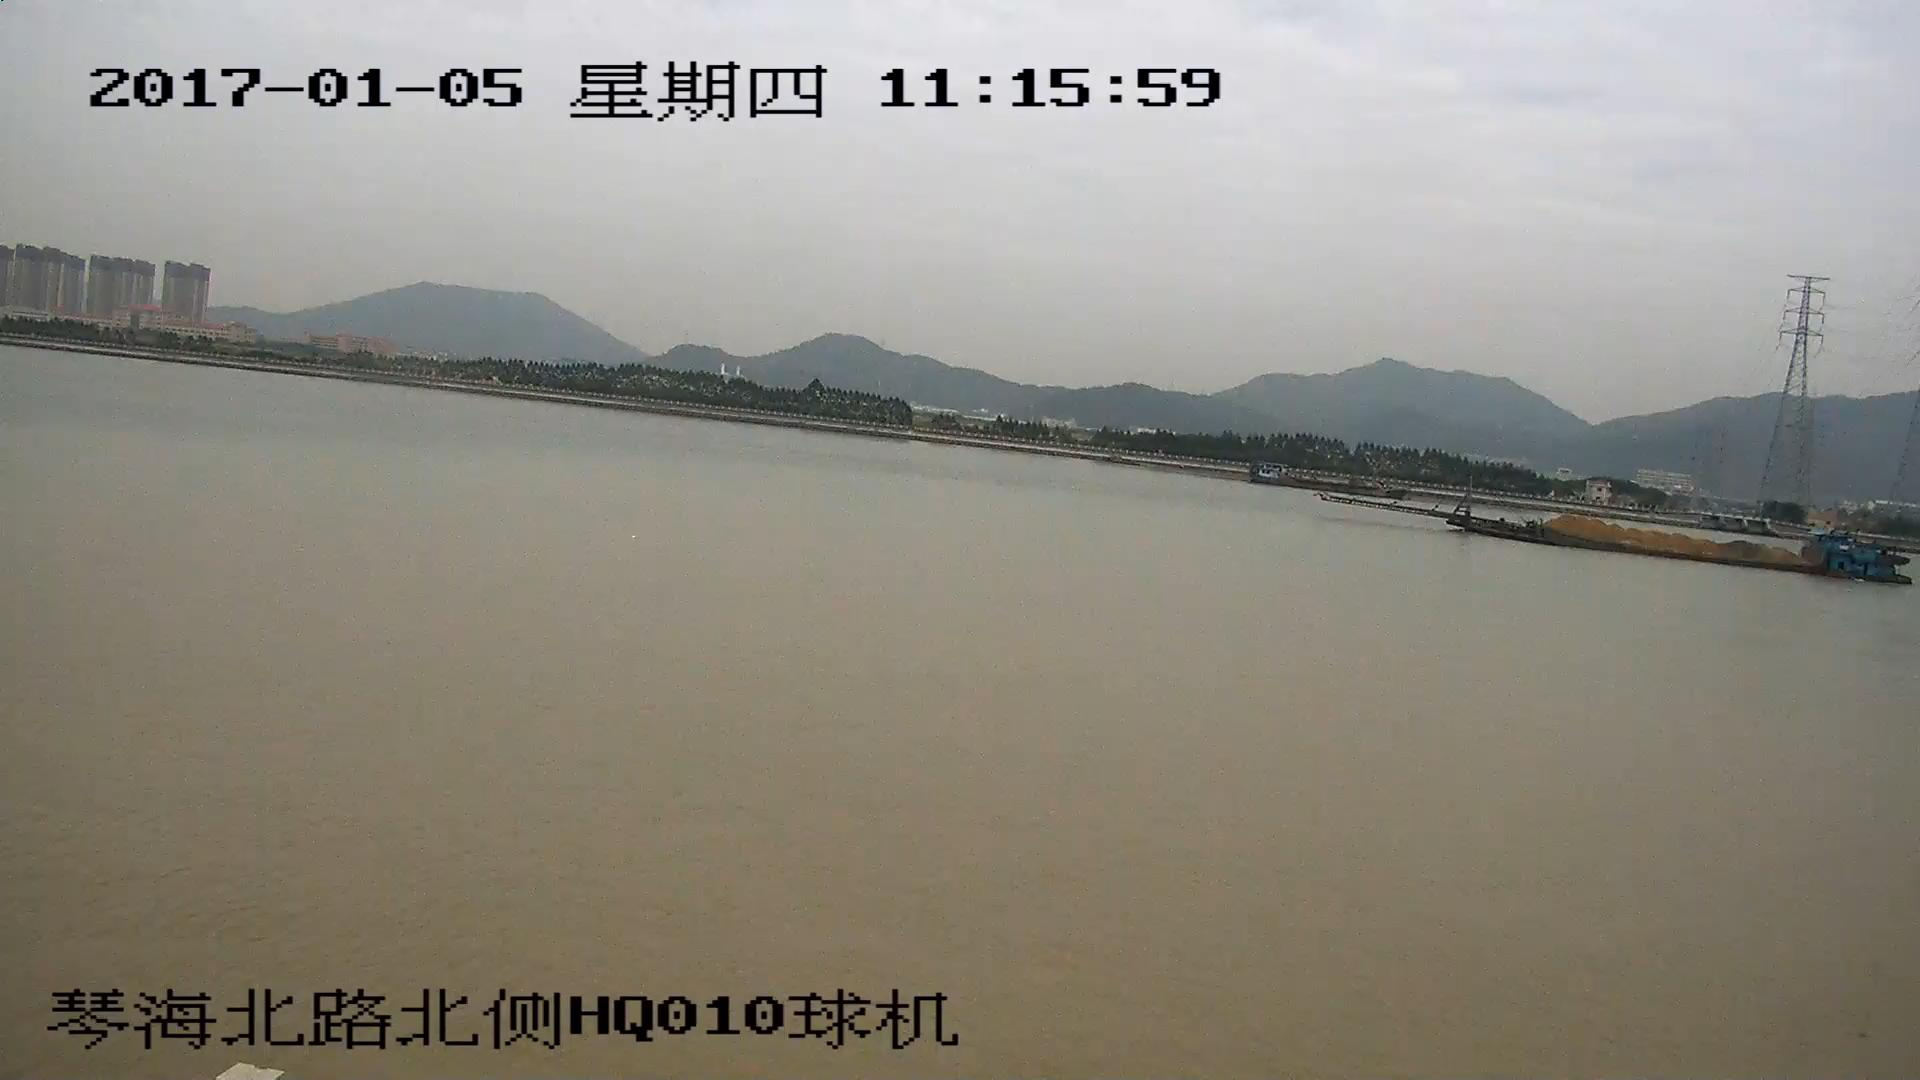ore carrier: (1331, 485, 1901, 580)
